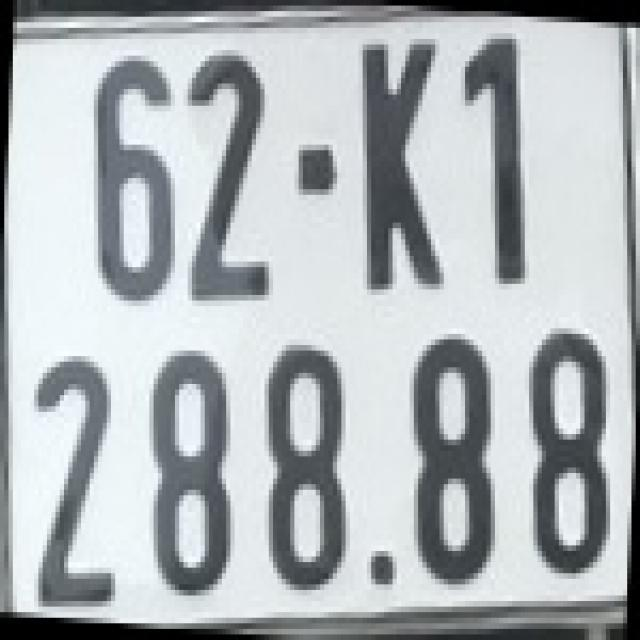1: (460, 33, 538, 284)
2: (184, 45, 278, 306), (30, 350, 120, 606)
6: (90, 50, 179, 301)
8: (524, 323, 614, 579), (410, 328, 500, 584), (145, 340, 235, 596), (264, 334, 350, 596)
K: (354, 22, 448, 301)
